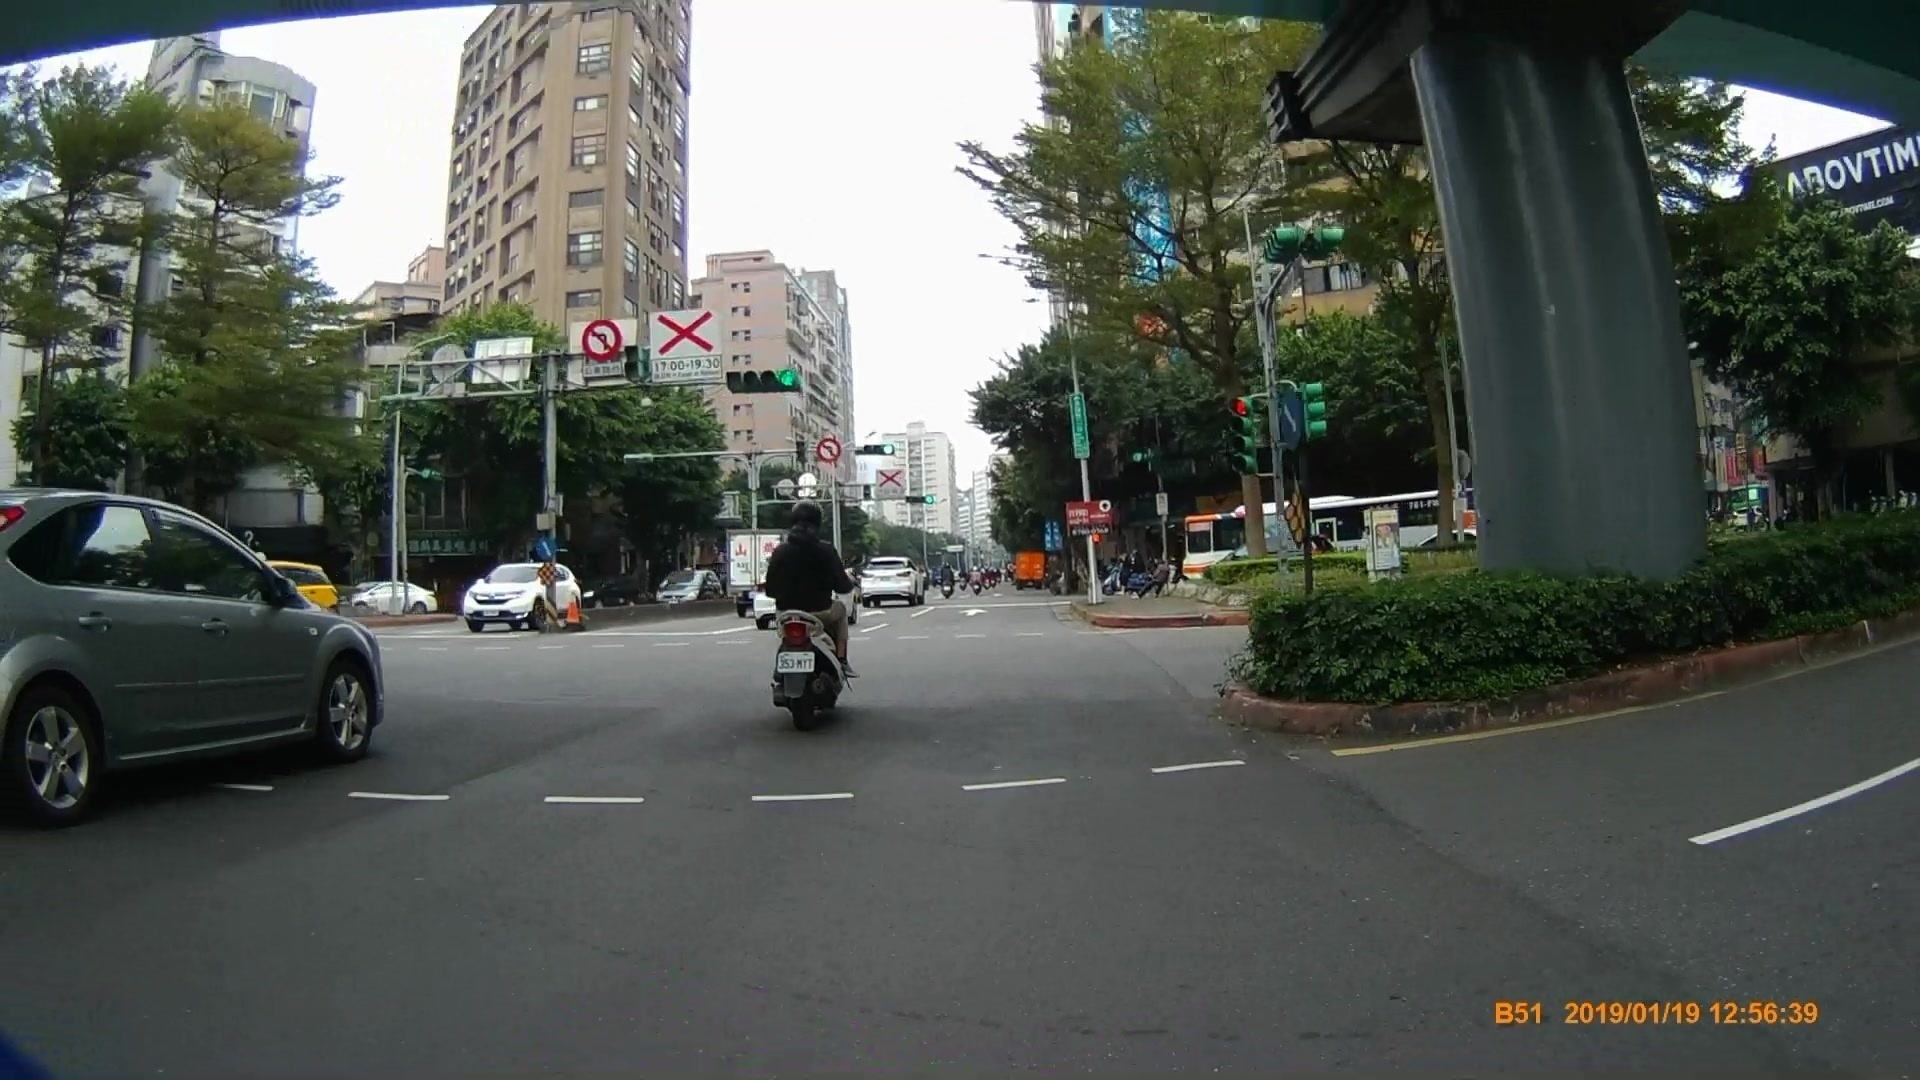License_plate: (776, 648, 818, 676)
